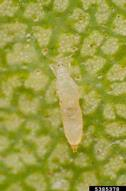Thrips: (44, 54, 90, 160)
